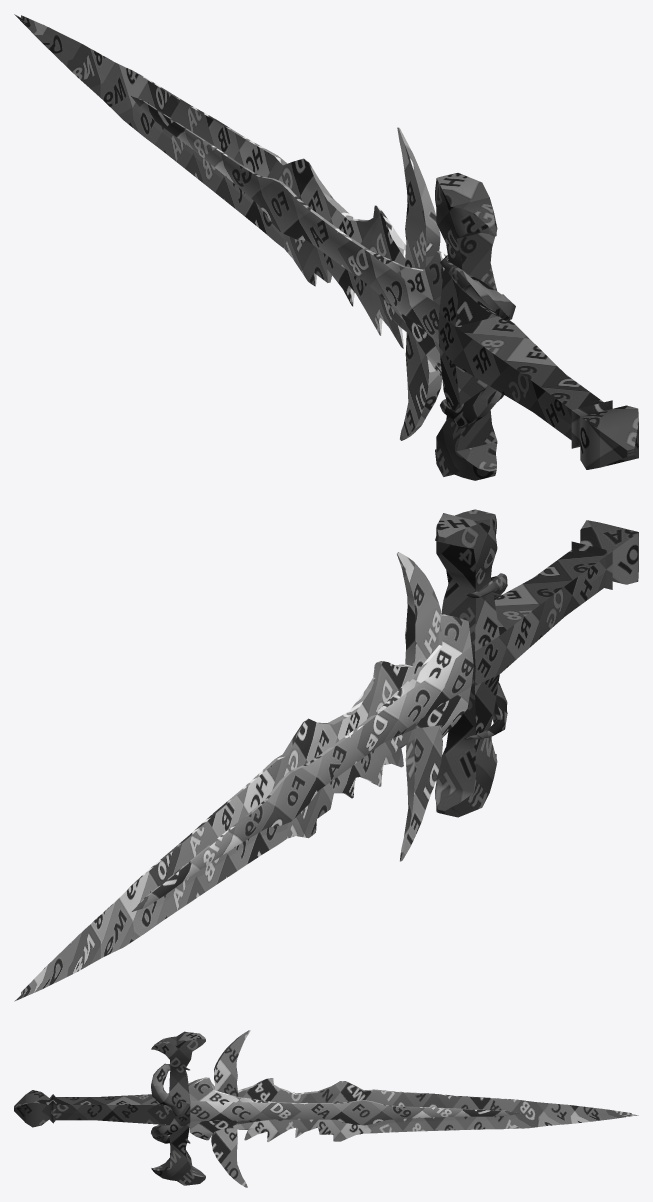
The model's file is Sword2.fbx.
The picture shows the model from 3 angles, top to bottom: view 1: azimuth 30°, elevation 25°; view 2: azimuth 150°, elevation 25°; view 3: azimuth 270°, elevation 25°; orthographic projection. The views are drawn at different scales.
Visible parts, largest first — view 1: Blade, Sword_HIlt2; view 2: Blade, Sword_HIlt2; view 3: Blade, Sword_HIlt2.
Part boxes in pixels (x1,y1,x2,y2): Blade: (14, 14, 448, 440); Sword_HIlt2: (435, 173, 638, 480); Blade: (14, 552, 473, 1001); Sword_HIlt2: (435, 509, 638, 817); Blade: (188, 1030, 638, 1187); Sword_HIlt2: (14, 1031, 205, 1185).
Size of the model in its own units: 0.3233 by 1.59 by 5.72.
Materials: 2 (2 with a texture image).
